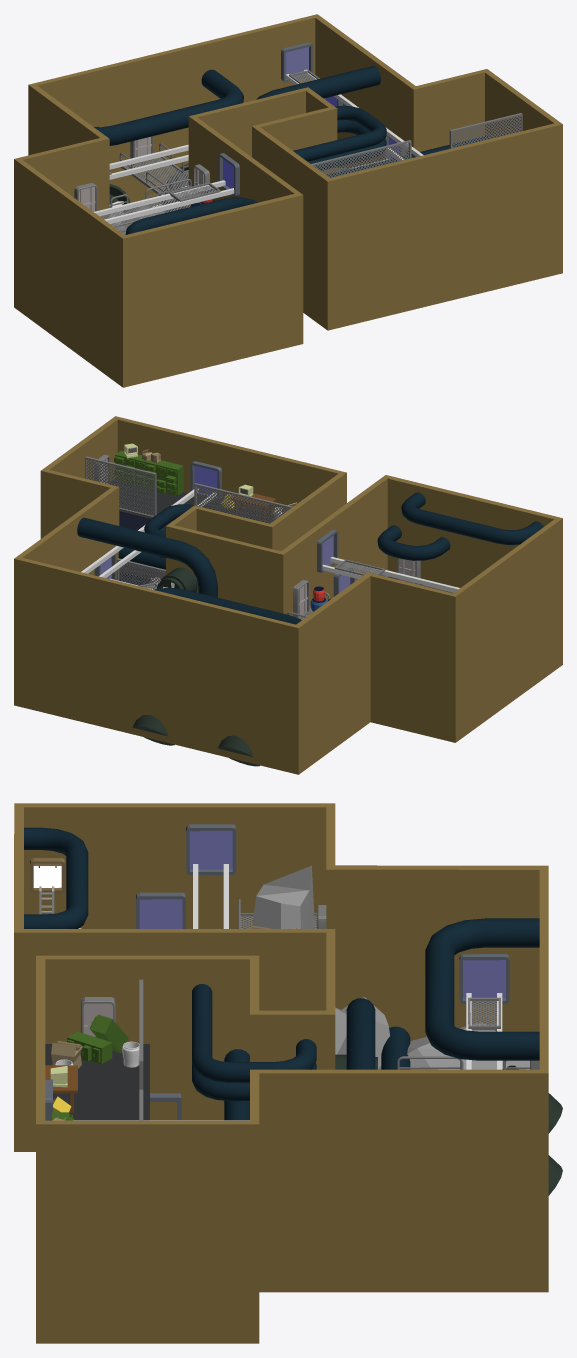
The model's file is Room2Model.fbx.
3 views of the same model, one above another, from view 1: azimuth 30°, elevation 25°; view 2: azimuth 150°, elevation 25°; view 3: azimuth 270°, elevation 25° (orthographic). The views are drawn at different scales.
Visible parts, largest first — view 1: R2 Wall, R2 Wall (Top), R2 Wall (Right), Pipe .012, Pipe .015, Pipe .013, Pipe .016, Cube.013, Cube.120, Cube.045, Cube.073, Pipe .014 (+7 smaller); view 2: R2 Wall, R2 Wall (Right), R2 Wall (Top), Pipe .013, Pipe .016, Cube.120, Cube.042, Cube.181, Cube.013, Pipe .019, Pipe .012, Cube.043 (+11 smaller); view 3: R2 Wall, R2 Wall (Right), Pipe .012, Cube.042, Pipe .015, Pipe .016, Icosphere.013, Cube.037, Cube.052, Pipe .013, Cube.024, Cube.182 (+7 smaller).
Boxes of the visible parts, box(x1,y1,x2,y2) form: R2 Wall: box(15, 14, 562, 330); R2 Wall (Top): box(123, 194, 303, 387); R2 Wall (Right): box(14, 159, 124, 387); Pipe .012: box(94, 69, 243, 145); Pipe .015: box(293, 106, 386, 161); Pipe .013: box(256, 66, 380, 99); Pipe .016: box(125, 197, 257, 234); Cube.013: box(314, 143, 409, 177); Cube.120: box(452, 116, 520, 147); Cube.045: box(281, 42, 313, 82); Cube.073: box(125, 157, 188, 194); Pipe .014: box(308, 120, 386, 170); R2 Wall: box(14, 416, 455, 774); R2 Wall (Right): box(453, 518, 562, 742); R2 Wall (Top): box(386, 475, 562, 587); Pipe .013: box(77, 517, 217, 597); Pipe .016: box(401, 492, 543, 544); Cube.120: box(86, 459, 153, 516); Cube.042: box(110, 479, 274, 530); Cube.181: box(114, 450, 183, 495); Cube.013: box(196, 486, 289, 523); Pipe .019: box(377, 525, 450, 560); Pipe .012: box(153, 588, 301, 624); Cube.043: box(190, 461, 221, 500); R2 Wall: box(14, 803, 548, 1343); R2 Wall (Right): box(14, 803, 334, 928); Pipe .012: box(425, 918, 539, 1060); Cube.042: box(45, 1044, 149, 1120); Pipe .015: box(192, 984, 316, 1082); Pipe .016: box(24, 827, 88, 928); Icosphere.013: box(252, 865, 314, 928); Cube.037: box(186, 824, 236, 875); Cube.052: box(459, 954, 509, 1004); Pipe .013: box(346, 998, 375, 1069); Cube.024: box(136, 892, 185, 928); Cube.182: box(67, 1014, 128, 1064).
Size of the model in its own units: 8590 by 3004 by 6209.
